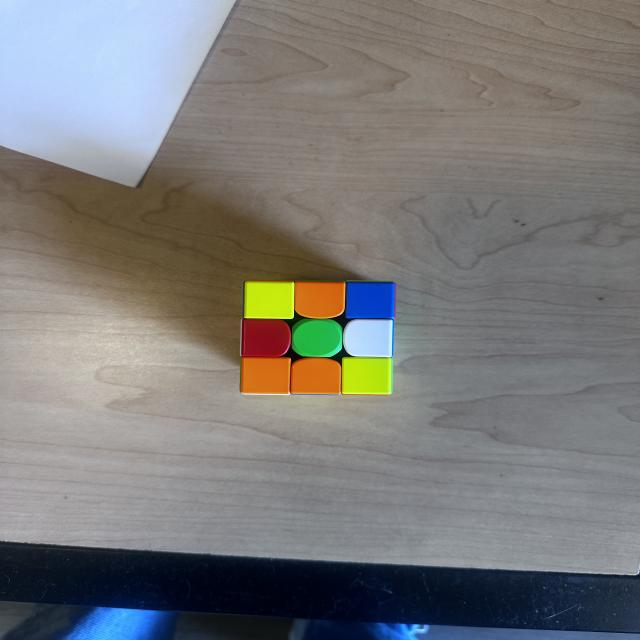sticker: (238, 318, 292, 360), (344, 280, 397, 322), (291, 318, 343, 359), (240, 356, 293, 396), (290, 357, 344, 396), (342, 318, 394, 358), (341, 357, 393, 396), (294, 281, 346, 320), (243, 281, 295, 320)
